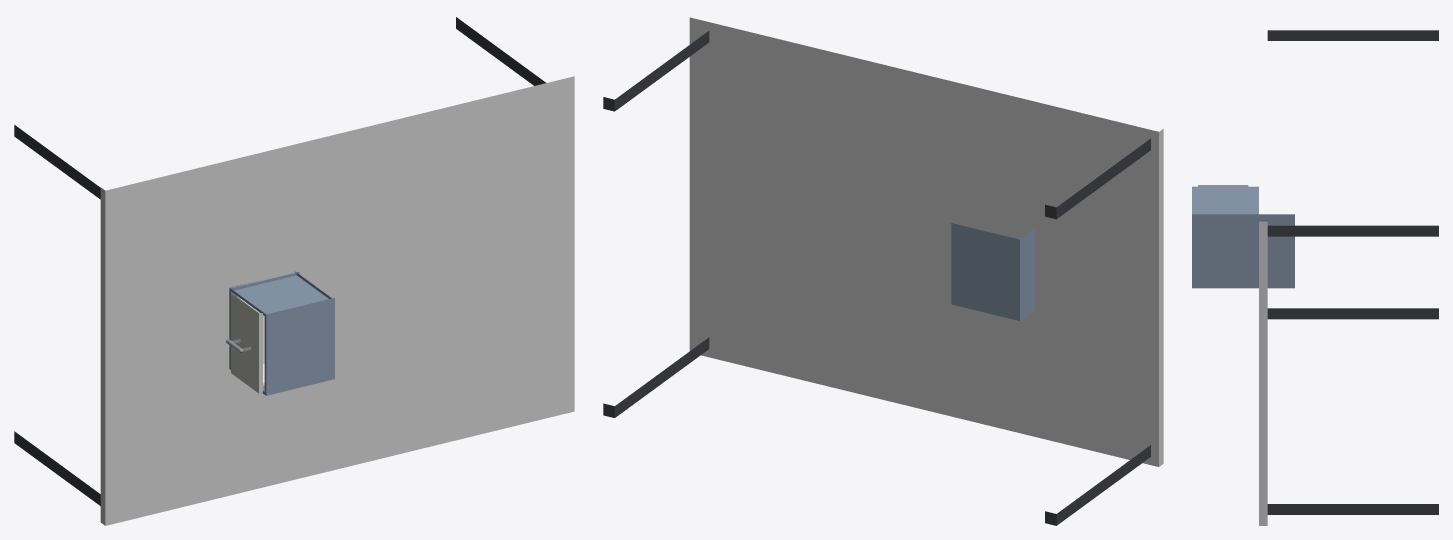
3 views of the same model, side by side, from view 1: azimuth 30°, elevation 25°; view 2: azimuth 150°, elevation 25°; view 3: azimuth 270°, elevation 25° (orthographic). The views are drawn at different scales.
Visible parts, largest first — view 1: s0, s1, s2; view 2: s0, s1; view 3: s0, s1.
Part boxes in pixels (x1=…): s0: x1=14, y1=17, x2=574, y2=525; s1: x1=229, y1=271, x2=334, y2=395; s2: x1=226, y1=294, x2=264, y2=393; s0: x1=603, y1=17, x2=1163, y2=525; s1: x1=951, y1=223, x2=1035, y2=320; s0: x1=1259, y1=30, x2=1438, y2=525; s1: x1=1192, y1=186, x2=1294, y2=288.
Size of the model in its own units: 2.05 by 1.4 by 1.03.
